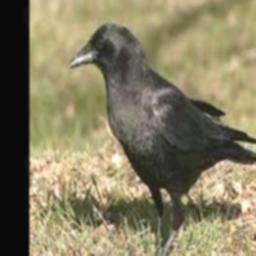Crow: (69, 21, 256, 256)
